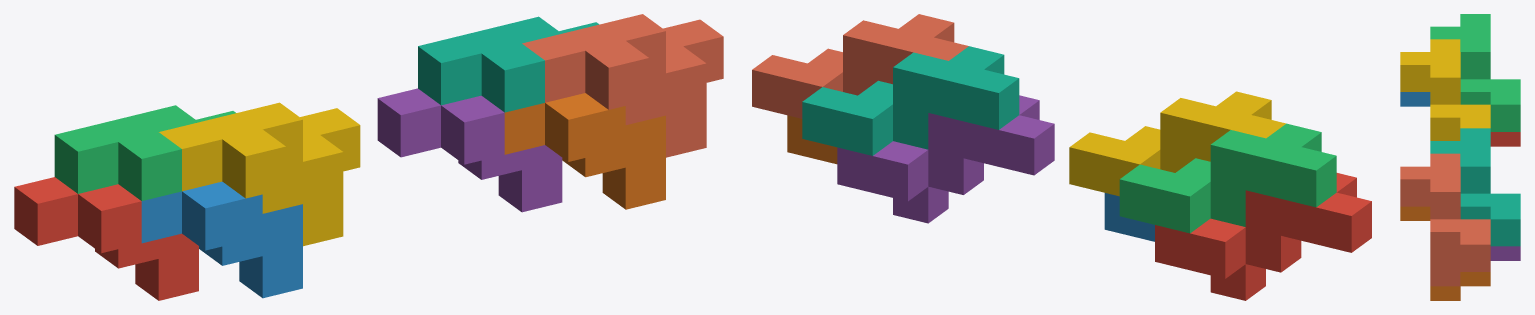
The model's file is tiling.obj.
3 renders of one model, left to right at view 1: azimuth 30°, elevation 25°; view 2: azimuth 150°, elevation 25°; view 3: azimuth 270°, elevation 25°, orthographic. The views are drawn at different scales.
Parts seen in each view (by area): view 1: copy_1_domain_4, copy_1_domain_8, copy_1_domain_5, copy_1_domain_1, copy_1_domain_2, copy_1_domain_6, copy_1_domain_3, copy_1_domain_7; view 2: copy_1_domain_7, copy_1_domain_3, copy_1_domain_5, copy_1_domain_1, copy_1_domain_4, copy_1_domain_8, copy_1_domain_6, copy_1_domain_2; view 3: copy_1_domain_8, copy_1_domain_4, copy_1_domain_7, copy_1_domain_3, copy_1_domain_6, copy_1_domain_1, copy_1_domain_2, copy_1_domain_5.
Boxes of the visible parts, x1=… form: copy_1_domain_4: x1=159, y1=102, x2=360, y2=246; copy_1_domain_8: x1=522, y1=14, x2=723, y2=157; copy_1_domain_5: x1=377, y1=88, x2=562, y2=212; copy_1_domain_1: x1=14, y1=177, x2=198, y2=300; copy_1_domain_2: x1=141, y1=181, x2=302, y2=298; copy_1_domain_6: x1=504, y1=93, x2=665, y2=209; copy_1_domain_3: x1=54, y1=105, x2=235, y2=200; copy_1_domain_7: x1=418, y1=16, x2=599, y2=112; copy_1_domain_7: x1=802, y1=46, x2=1019, y2=155; copy_1_domain_3: x1=1119, y1=123, x2=1336, y2=233; copy_1_domain_5: x1=837, y1=95, x2=1054, y2=223; copy_1_domain_1: x1=1155, y1=173, x2=1371, y2=300; copy_1_domain_4: x1=1069, y1=91, x2=1285, y2=196; copy_1_domain_8: x1=752, y1=14, x2=968, y2=118; copy_1_domain_6: x1=787, y1=115, x2=837, y2=164; copy_1_domain_2: x1=1104, y1=193, x2=1154, y2=241; copy_1_domain_8: x1=1400, y1=153, x2=1490, y2=286; copy_1_domain_4: x1=1400, y1=39, x2=1490, y2=140; copy_1_domain_7: x1=1430, y1=128, x2=1520, y2=246; copy_1_domain_3: x1=1430, y1=14, x2=1520, y2=131; copy_1_domain_6: x1=1400, y1=206, x2=1490, y2=300; copy_1_domain_1: x1=1490, y1=132, x2=1520, y2=146; copy_1_domain_2: x1=1400, y1=92, x2=1430, y2=106; copy_1_domain_5: x1=1490, y1=246, x2=1520, y2=260.
Size of the model in its own units: 17 by 4 by 4.
